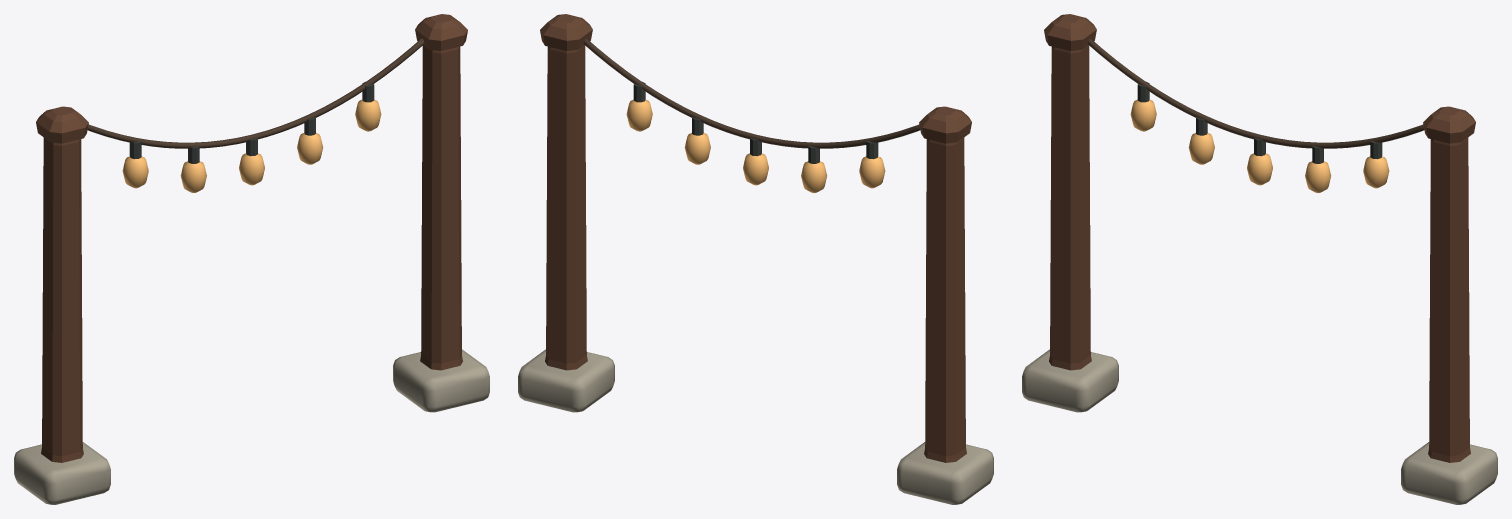
File: DEC_String_Lights_A.fbx
3 views of the same model, side by side, from view 1: azimuth 30°, elevation 25°; view 2: azimuth 150°, elevation 25°; view 3: azimuth 330°, elevation 25° (orthographic).
Parts seen in each view (by area): view 1: DEC_String_Lights_A_LOD0; view 2: DEC_String_Lights_A_LOD0; view 3: DEC_String_Lights_A_LOD0.
Boxes of the visible parts, x1,y1,x2,y2 form: DEC_String_Lights_A_LOD0: (14,14,489,504); DEC_String_Lights_A_LOD0: (518,14,993,504); DEC_String_Lights_A_LOD0: (1022,14,1497,504).
Size of what is drawn, in the model's own units: 2.94 by 2.38 by 0.44.
